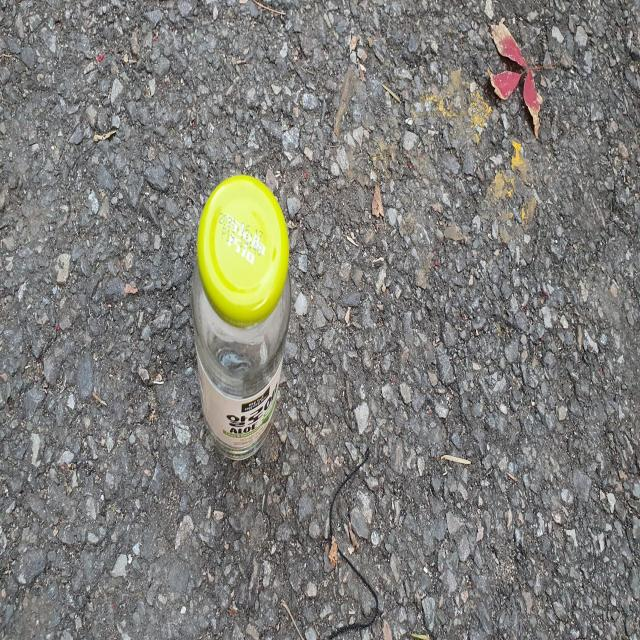glass: (192, 175, 291, 459)
